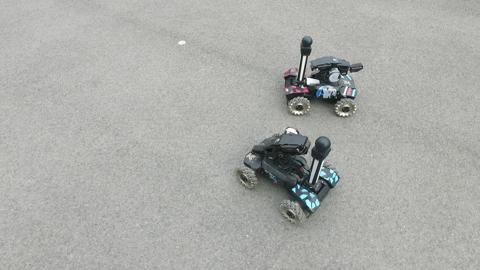chariot: (231, 123, 344, 229), (282, 29, 368, 122)
